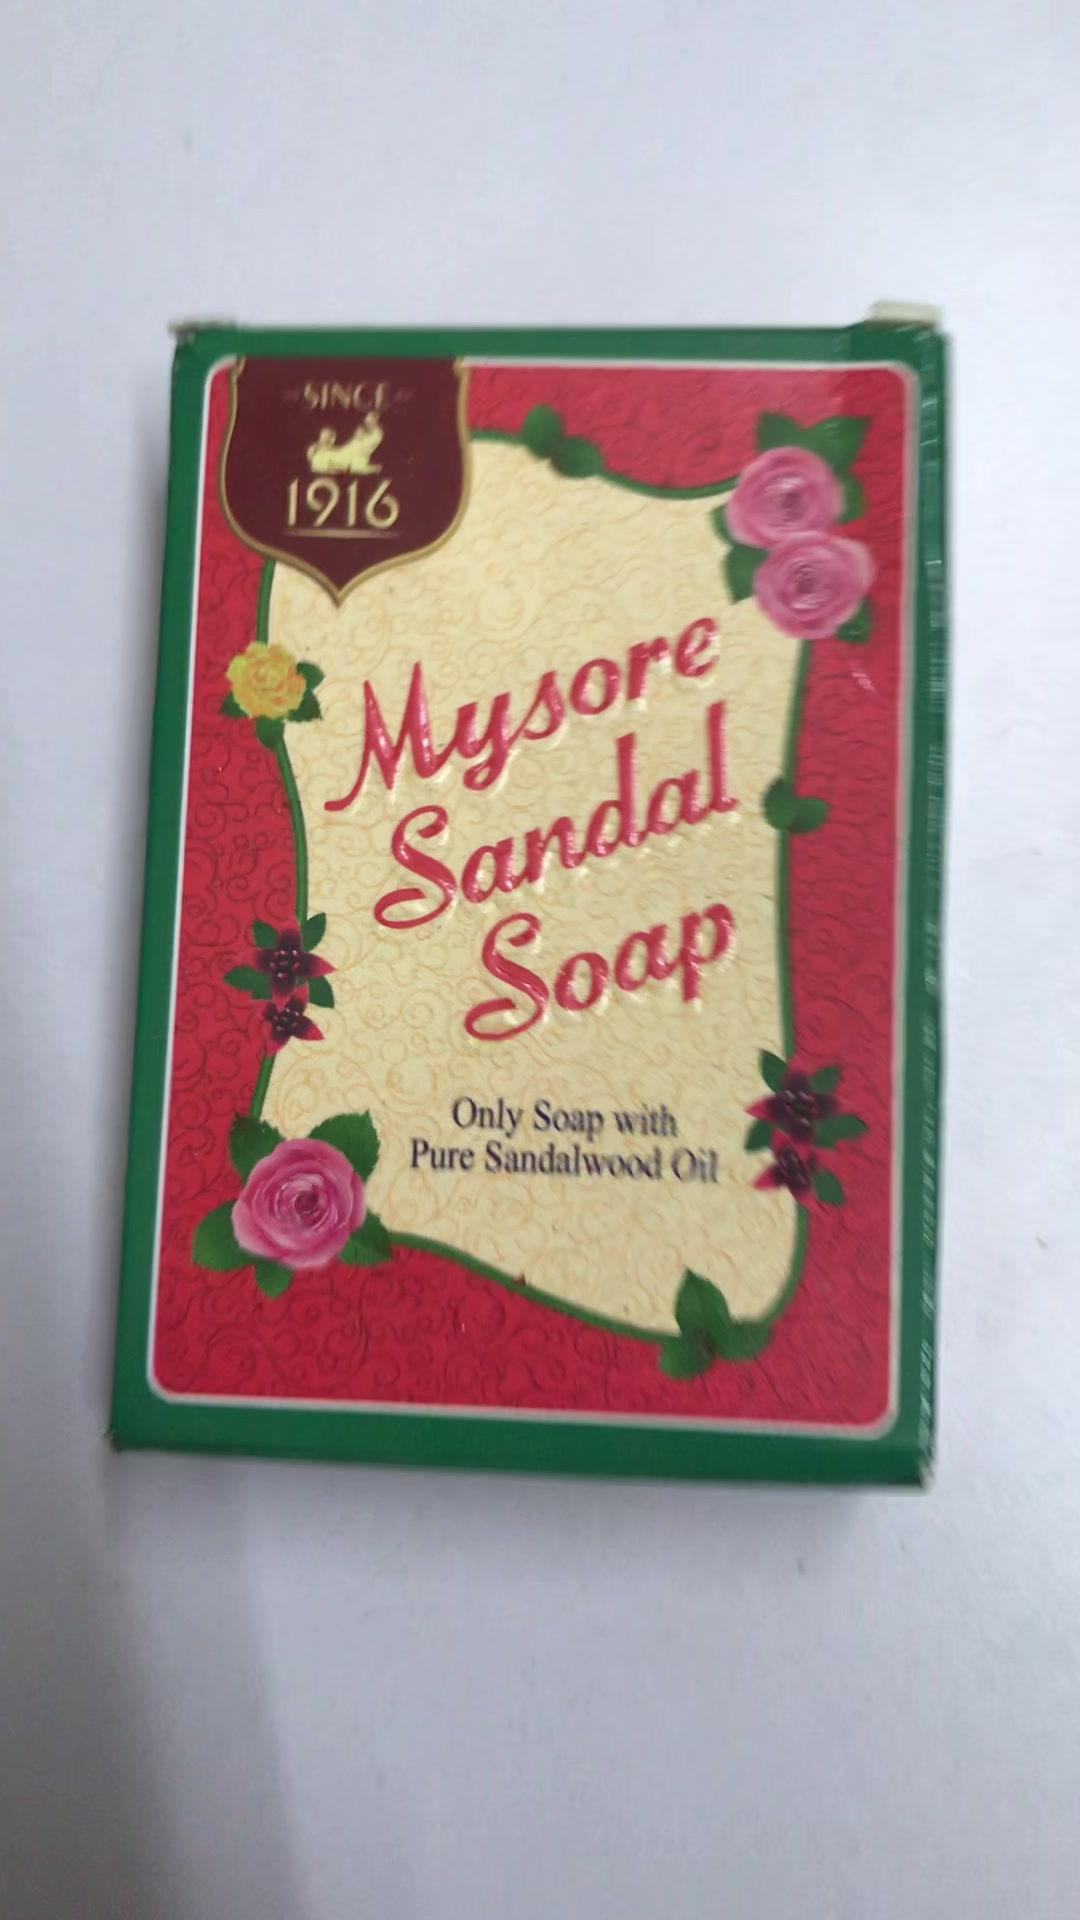mysore sandal soap: (102, 320, 957, 1495)
